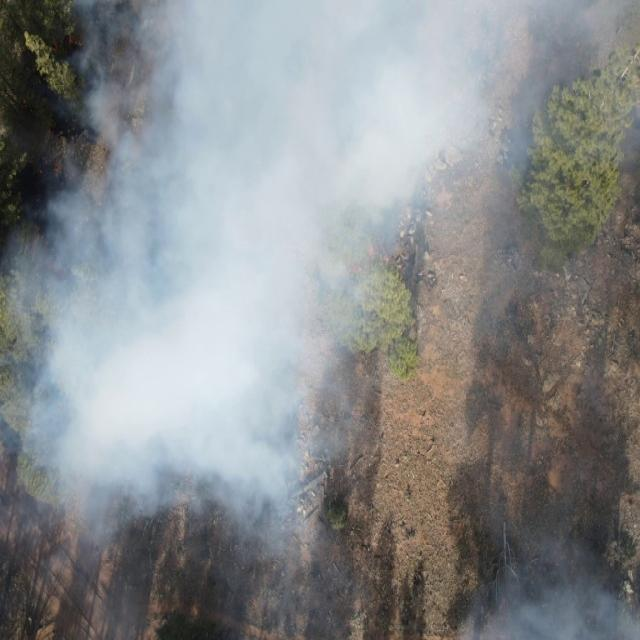fire: (368, 244, 397, 265), (49, 158, 66, 178), (68, 34, 86, 52), (348, 263, 367, 275), (22, 96, 26, 108)
smoke: (55, 0, 640, 351), (56, 349, 378, 640), (444, 511, 640, 640), (0, 196, 55, 578), (580, 349, 622, 425)
